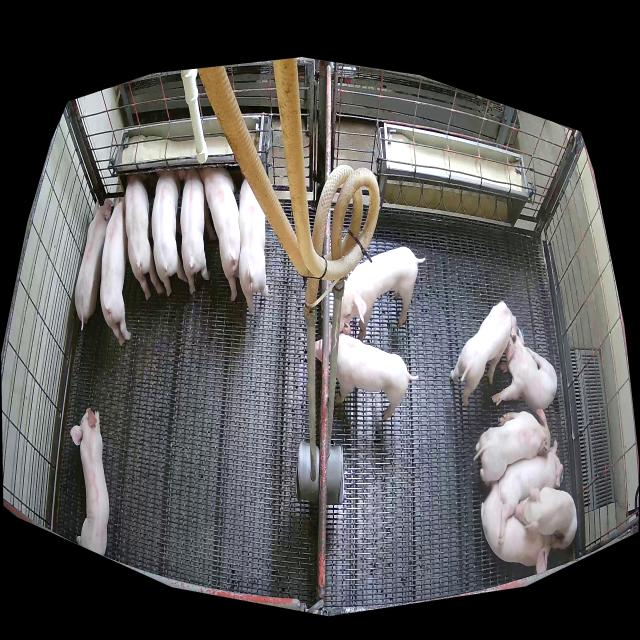pig: (340, 247, 426, 340), (336, 335, 418, 420), (498, 440, 564, 545), (451, 301, 516, 407), (481, 482, 554, 573), (473, 409, 550, 487), (70, 407, 109, 556), (491, 326, 557, 412), (203, 166, 241, 300), (75, 199, 112, 330), (177, 169, 216, 293), (126, 174, 164, 300), (151, 168, 188, 296), (100, 195, 131, 345), (238, 177, 268, 312), (514, 487, 578, 550)
